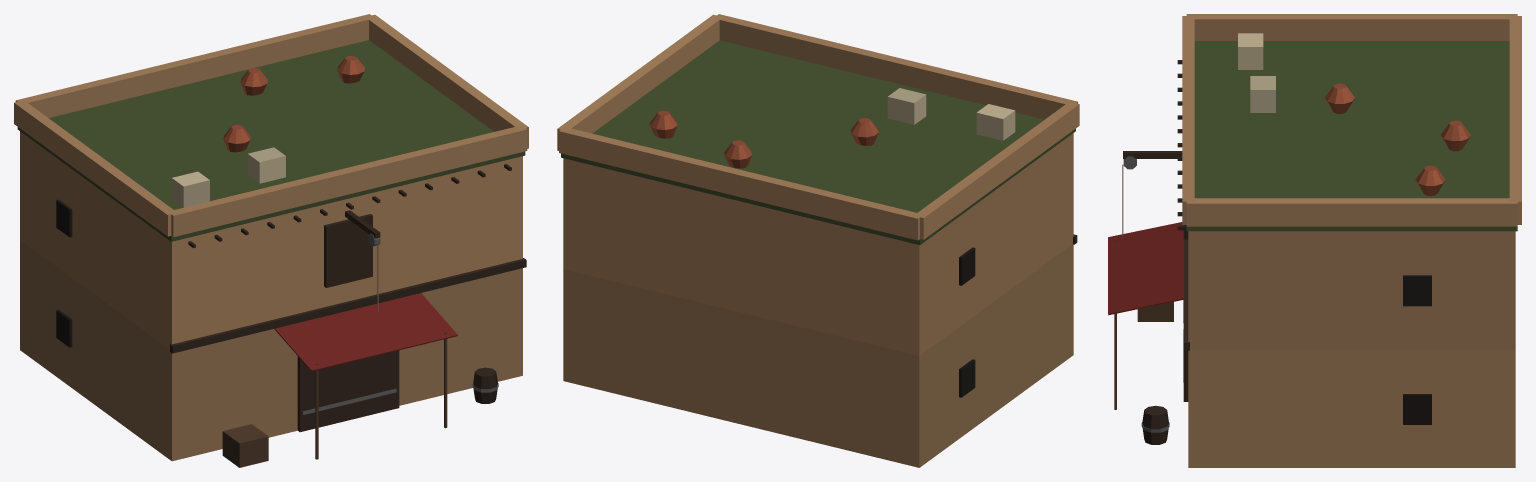
Rendered from walk_steppe_warehouse.glb.
3 renders of one model, left to right at view 1: azimuth 30°, elevation 25°; view 2: azimuth 150°, elevation 25°; view 3: azimuth 270°, elevation 25°, orthographic. The views are drawn at different scales.
Parts seen in each view (by area): view 1: walk_steppe_warehouse, walk_steppe_warehouse_roof; view 2: walk_steppe_warehouse, walk_steppe_warehouse_roof; view 3: walk_steppe_warehouse, walk_steppe_warehouse_roof.
Part boxes in pixels (<box>): walk_steppe_warehouse: <box>20,56,526,467</box>; walk_steppe_warehouse_roof: <box>14,14,528,241</box>; walk_steppe_warehouse: <box>563,88,1077,467</box>; walk_steppe_warehouse_roof: <box>557,14,1079,244</box>; walk_steppe_warehouse: <box>1108,33,1515,467</box>; walk_steppe_warehouse_roof: <box>1182,14,1521,231</box>.
Size of what is drawn, in the model's own units: 12.34 by 8.15 by 11.38.
2 materials, 2 textured.
